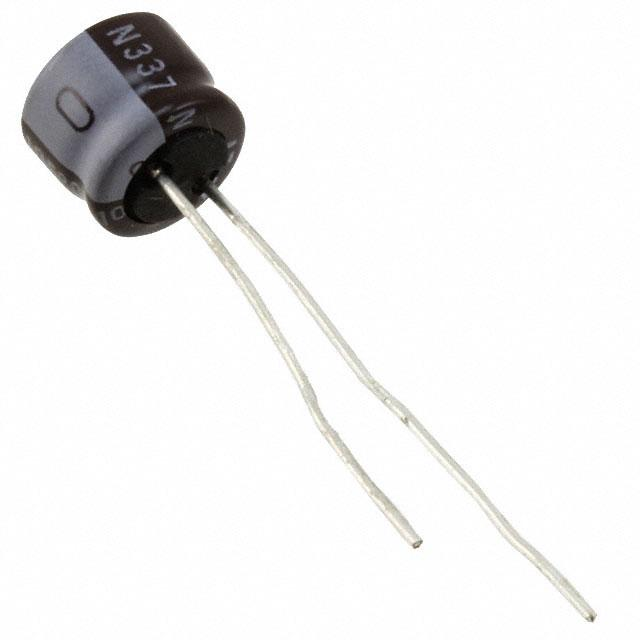Resistor: (20, 12, 246, 238)
